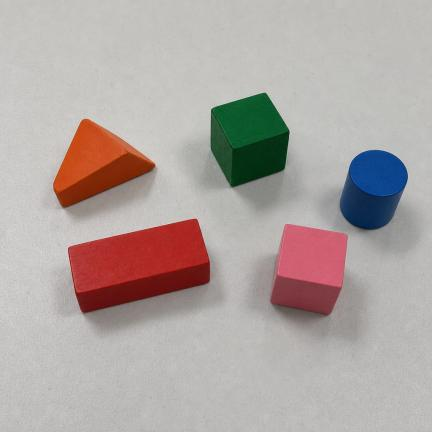BuildingBlocks: (69, 219, 210, 312), (54, 119, 154, 206), (211, 94, 288, 186), (271, 225, 347, 314), (341, 150, 407, 229)
